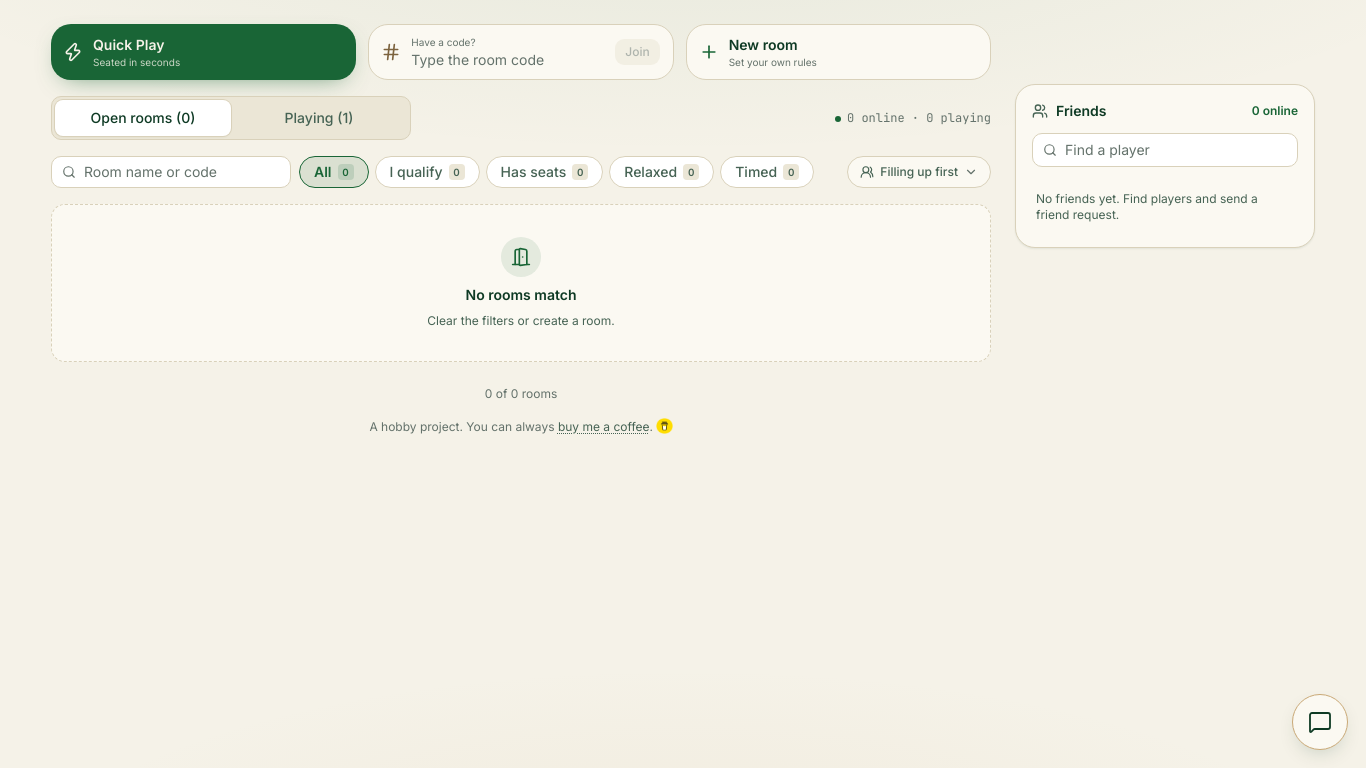
Test: LobbyPage › lists live matches read-only on the Playing tab
Click the radio button with test id "lobby-tabs-playing" at [319, 118], box [231, 100, 407, 136]
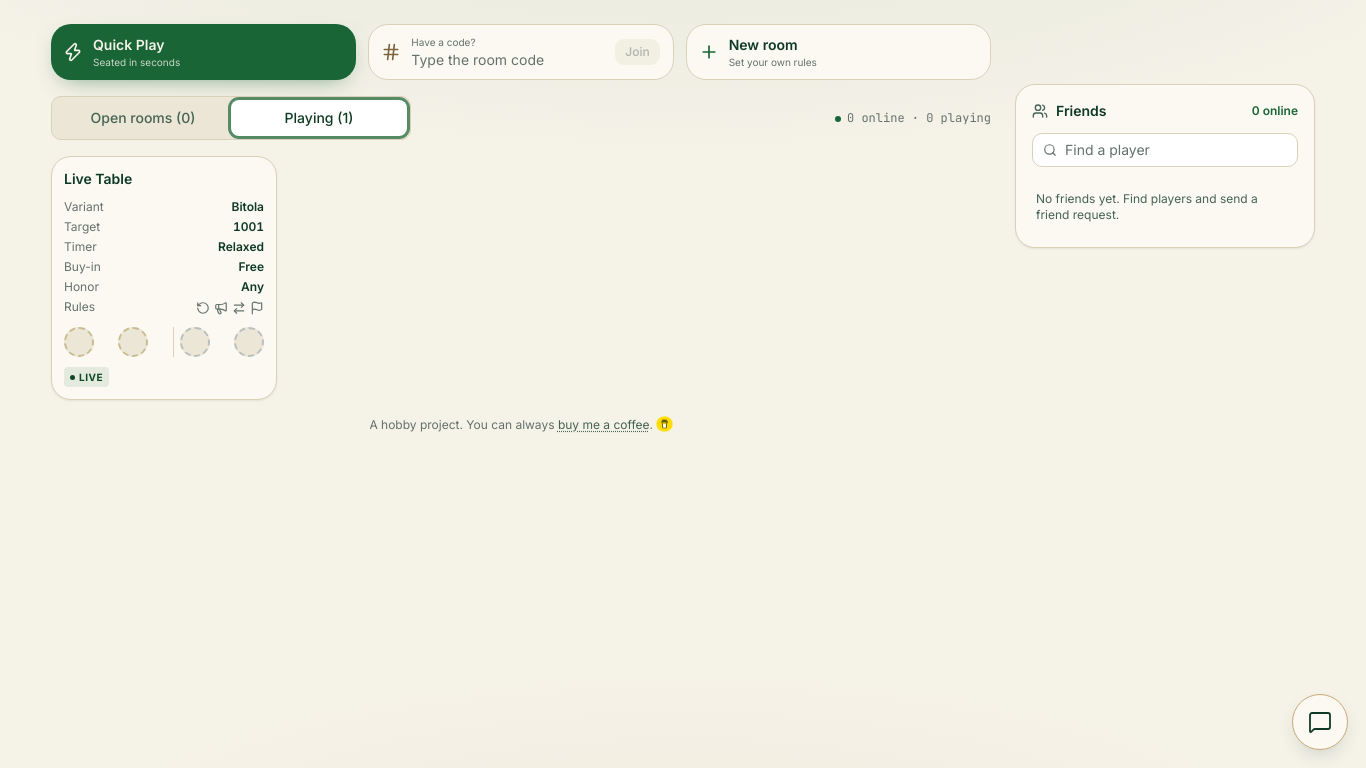
Result: the heading "Live Table" is shown at [64, 169, 132, 189]
Result: the button with test id "filter-chip-all" is gone
